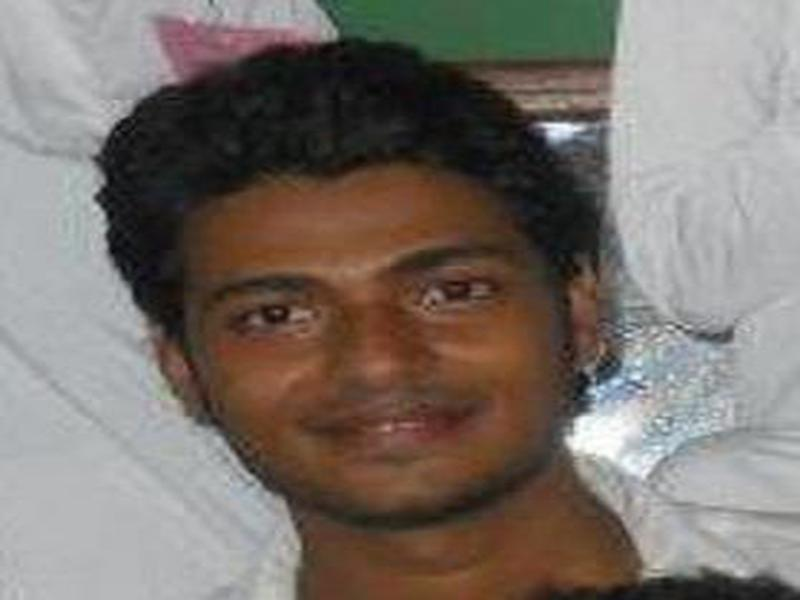without_mask: (185, 170, 561, 529)
